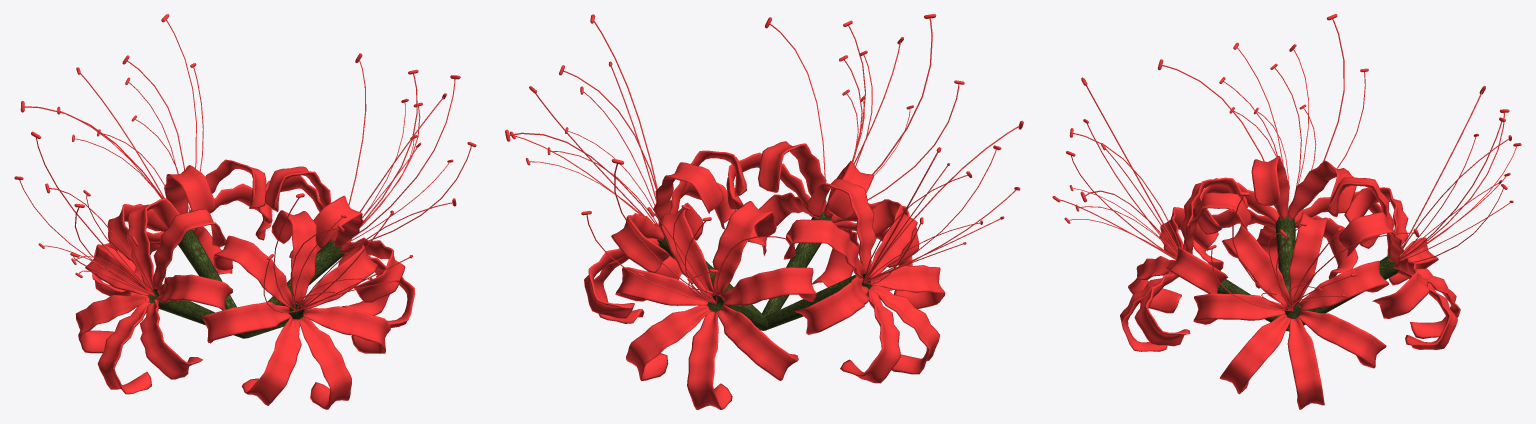
Rendered from flower_4_1.fbx.
The picture shows the model from 3 angles, left to right: view 1: azimuth 30°, elevation 25°; view 2: azimuth 150°, elevation 25°; view 3: azimuth 270°, elevation 25°; orthographic projection. The views are drawn at different scales.
Parts seen in each view (by area): view 1: 平面_instance_instance_16, 平面_instance_9, 平面_instance_instance_17, 平面_instance_instance_13, 平面_instance_instance_15, 平面_instance_instance_14, 平面_instance_instance_9, 平面_instance_instance_10, 平面_instance_instance_18, 平面_instance_8, 平面_instance_instance_11, 平面_instance_instance_7 (+17 smaller); view 2: 平面_instance_3, 平面, 平面_instance_4, 平面_instance_6, 平面_instance, 平面_instance_5, 平面_instance_2, 平面_instance_8, 平面_instance_9, 平面_instance_instance_10, 平面_instance_instance_11, 平面_instance_instance_12 (+17 smaller); view 3: 平面_instance_instance_23, 平面_instance_instance_20, 平面_instance_instance_22, 平面_instance_instance_21, 平面_instance_instance_24, 平面_instance_instance_19, 平面_instance_10, 平面_instance_instance_7, 平面_instance_8, 平面_instance_2, 平面_instance, 平面_instance_instance_18 (+18 smaller).
Part boxes in pixels (x1,y1,x2,y2): 平面_instance_instance_16: (297,317,351,409); 平面_instance_9: (271,210,317,304); 平面_instance_instance_17: (302,306,390,353); 平面_instance_instance_13: (213,235,293,308); 平面_instance_instance_15: (241,316,301,405); 平面_instance_instance_14: (202,302,290,343); 平面_instance_instance_9: (75,294,149,353); 平面_instance_instance_10: (97,302,151,394); 平面_instance_instance_18: (301,244,377,309); 平面_instance_8: (152,209,226,288); 平面_instance_instance_11: (140,299,202,379); 平面_instance_instance_7: (127,198,179,289); 平面_instance_3: (626,305,710,380); 平面: (712,201,776,297); 平面_instance_4: (687,311,732,409); 平面_instance_6: (722,267,816,305); 平面_instance: (660,202,715,297); 平面_instance_5: (717,305,798,380); 平面_instance_2: (615,267,708,305); 平面_instance_8: (805,179,876,274); 平面_instance_9: (758,141,826,212); 平面_instance_instance_10: (869,285,939,374); 平面_instance_instance_11: (869,265,945,308); 平面_instance_instance_12: (865,199,917,278); 平面_instance_instance_23: (1298,310,1386,368); 平面_instance_instance_20: (1193,293,1285,324); 平面_instance_instance_22: (1287,317,1324,409); 平面_instance_instance_21: (1220,314,1290,394); 平面_instance_instance_24: (1298,260,1388,310); 平面_instance_instance_19: (1222,226,1290,306); 平面_instance_10: (1289,212,1327,304); 平面_instance_instance_7: (1287,160,1356,220); 平面_instance_8: (1251,156,1289,219); 平面_instance_2: (1372,257,1429,318); 平面_instance: (1337,212,1403,262); 平面_instance_instance_18: (1166,247,1228,293).
Bounding box in the file's own units: 621 × 353 × 621.
